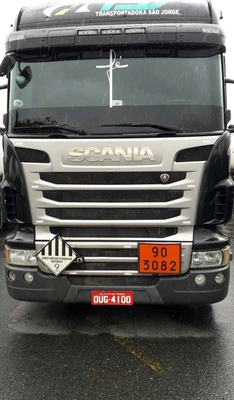Frontal Caminhao: (1, 5, 234, 307)
